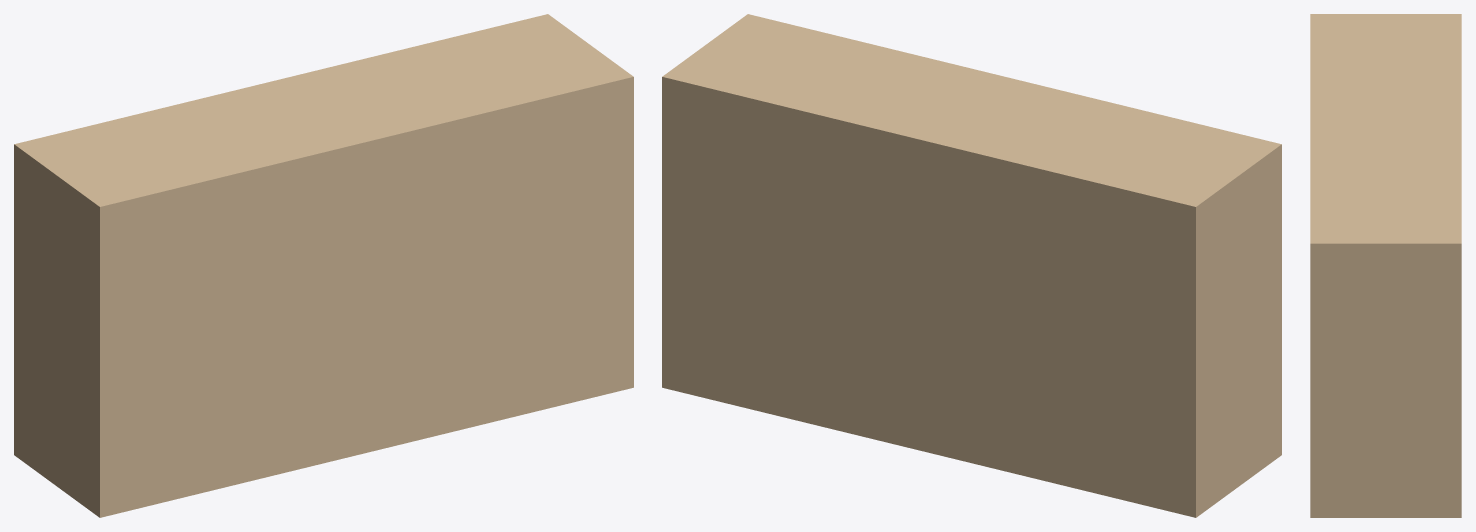
The model's file is low-shelf.glb.
The picture shows the model from 3 angles, left to right: view 1: azimuth 30°, elevation 25°; view 2: azimuth 150°, elevation 25°; view 3: azimuth 270°, elevation 25°; orthographic projection. The views are drawn at different scales.
Parts seen in each view (by area): view 1: root; view 2: root; view 3: root.
Part boxes in pixels (box(x1,y1,x2,y2)): root: box(14, 14, 633, 517); root: box(662, 14, 1281, 517); root: box(1310, 14, 1461, 517).
Size of the model in its own units: 1.15 by 0.64 by 0.32.
